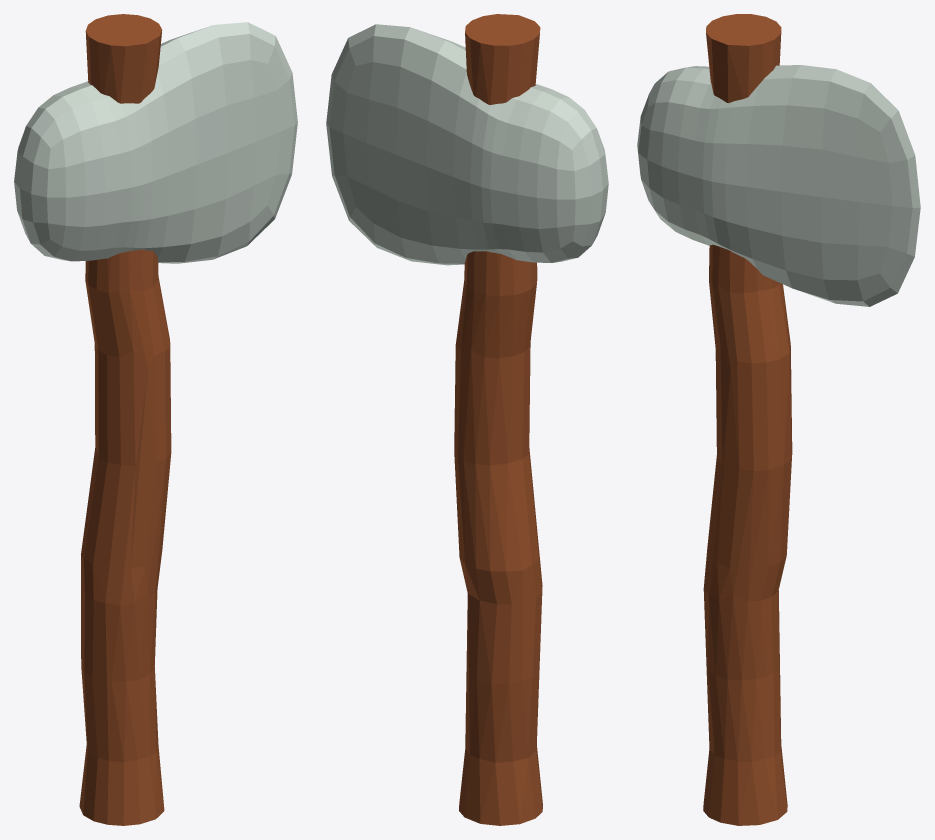
File: axeJoined.fbx
The picture shows the model from 3 angles, left to right: view 1: azimuth 30°, elevation 25°; view 2: azimuth 150°, elevation 25°; view 3: azimuth 330°, elevation 25°; orthographic projection.
Parts seen in each view (by area): view 1: Axe; view 2: Axe; view 3: Axe.
Boxes of the visible parts, <box> form: Axe: <box>14,14,297,825</box>; Axe: <box>326,14,608,825</box>; Axe: <box>637,14,920,825</box>.
Bounding box in the file's own units: 188 × 504 × 62.7.
